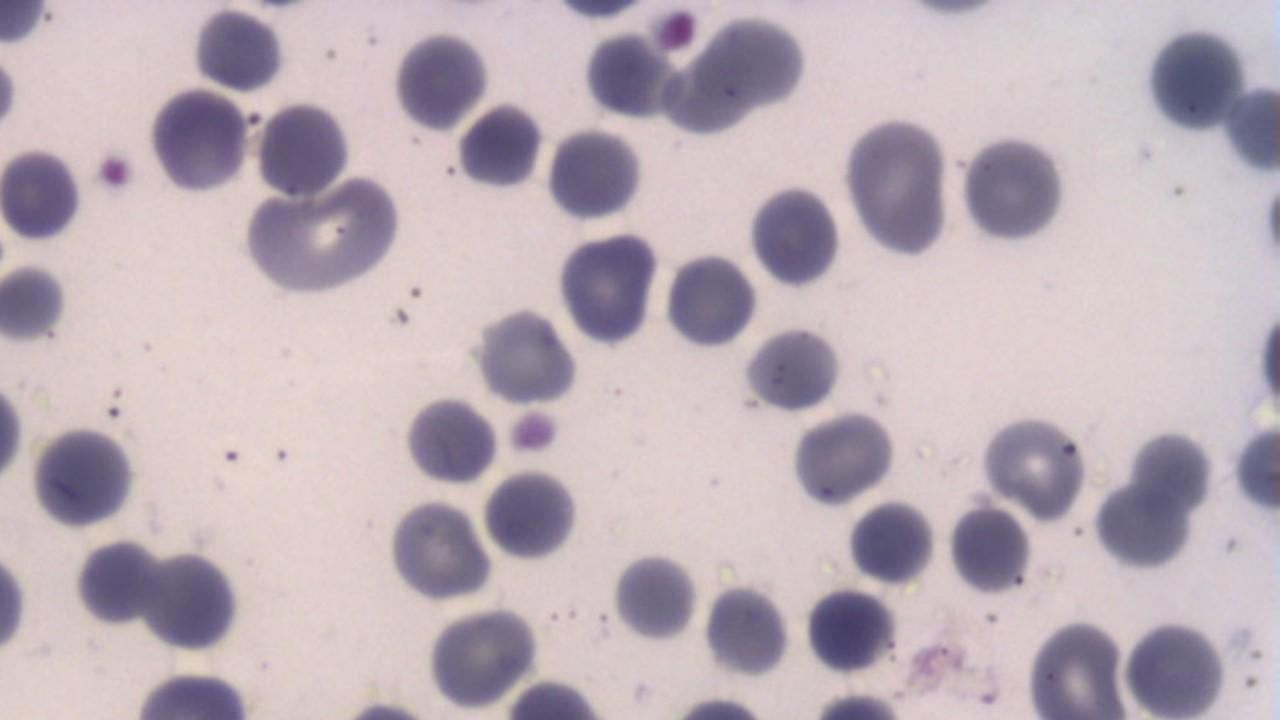Platelets: (956, 130, 1072, 246), (555, 226, 662, 350), (1138, 21, 1244, 139), (26, 424, 141, 529), (744, 181, 845, 290), (542, 126, 652, 225), (661, 252, 758, 352), (400, 394, 500, 491), (480, 465, 582, 560), (738, 325, 844, 415), (700, 579, 792, 682), (800, 582, 896, 678), (188, 6, 288, 94), (610, 548, 698, 646), (0, 143, 86, 243), (68, 536, 158, 628), (454, 102, 544, 194), (842, 498, 936, 586), (1, 260, 70, 343), (1230, 421, 1280, 518), (504, 407, 564, 458), (900, 0, 1008, 24), (92, 146, 139, 199), (1258, 173, 1280, 276), (550, 0, 648, 23), (0, 48, 20, 135)
RBC: (239, 175, 405, 299), (841, 108, 955, 266), (556, 224, 660, 350), (977, 408, 1089, 522), (422, 604, 541, 710), (382, 494, 494, 604), (28, 422, 140, 530), (144, 84, 252, 196), (470, 304, 580, 408), (788, 409, 896, 511), (141, 548, 244, 654), (252, 95, 354, 202), (388, 29, 489, 136), (541, 126, 647, 225), (662, 248, 759, 353), (480, 464, 581, 563), (740, 324, 845, 415), (608, 548, 700, 644), (844, 496, 938, 588), (946, 500, 1036, 596), (1, 141, 86, 242), (69, 536, 159, 630), (456, 100, 546, 194), (1222, 77, 1280, 177), (1, 532, 31, 674), (1252, 294, 1280, 436), (0, 365, 25, 497)
WBC: (284, 0, 936, 326), (1138, 16, 1254, 140), (145, 82, 254, 199), (468, 303, 583, 408), (386, 28, 494, 136), (143, 544, 245, 656), (790, 407, 900, 509), (398, 392, 501, 488), (1089, 480, 1191, 574), (700, 580, 792, 682), (577, 30, 675, 124), (800, 583, 900, 675), (187, 6, 289, 94), (844, 498, 936, 590)
